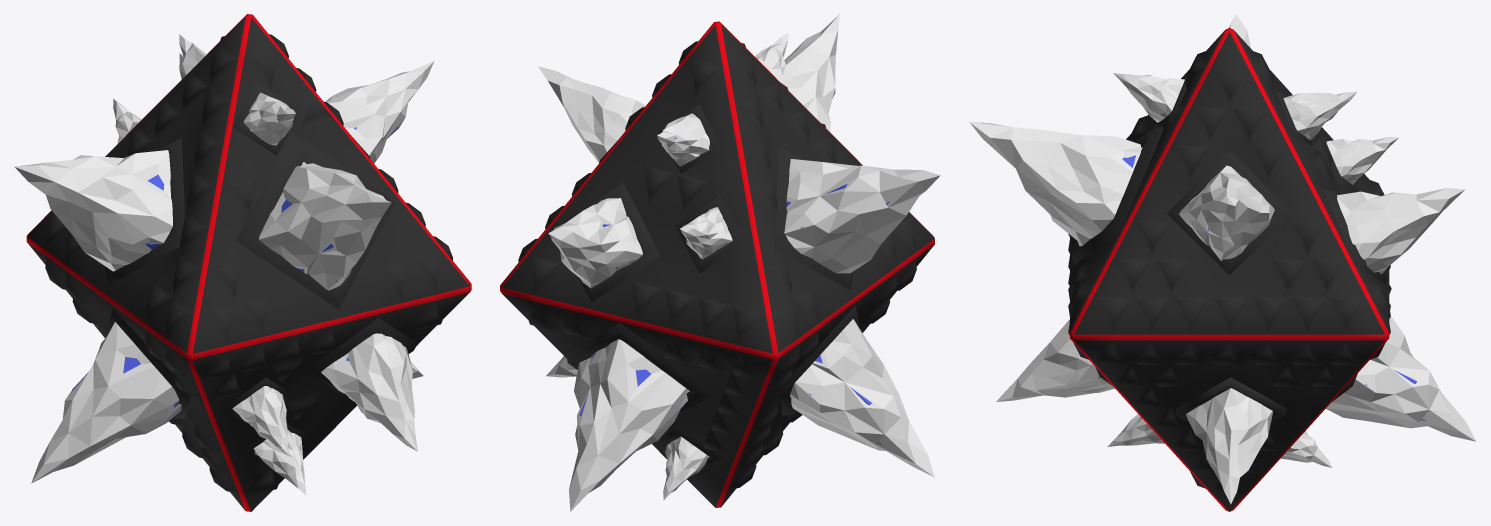
Rendered from Crystal_Planet.000.fbx.
The picture shows the model from 3 angles, left to right: view 1: azimuth 30°, elevation 25°; view 2: azimuth 150°, elevation 25°; view 3: azimuth 270°, elevation 25°; orthographic projection. The views are drawn at different scales.
Visible parts, largest first — view 1: Planet.Diamond, Planet.Diamonds.000, Planet.Diamonds.Core; view 2: Planet.Diamond, Planet.Diamonds.000; view 3: Planet.Diamond, Planet.Diamonds.000.
Boxes of the visible parts, bbox=[...] form: Planet.Diamond: bbox=[26, 14, 471, 511]; Planet.Diamonds.000: bbox=[14, 34, 434, 494]; Planet.Diamonds.Core: bbox=[72, 54, 397, 478]; Planet.Diamond: bbox=[500, 21, 934, 507]; Planet.Diamonds.000: bbox=[538, 14, 940, 511]; Planet.Diamond: bbox=[1068, 28, 1391, 511]; Planet.Diamonds.000: bbox=[969, 14, 1476, 504].
Bounding box in the file's own units: 7.91 × 8.98 × 8.59.
